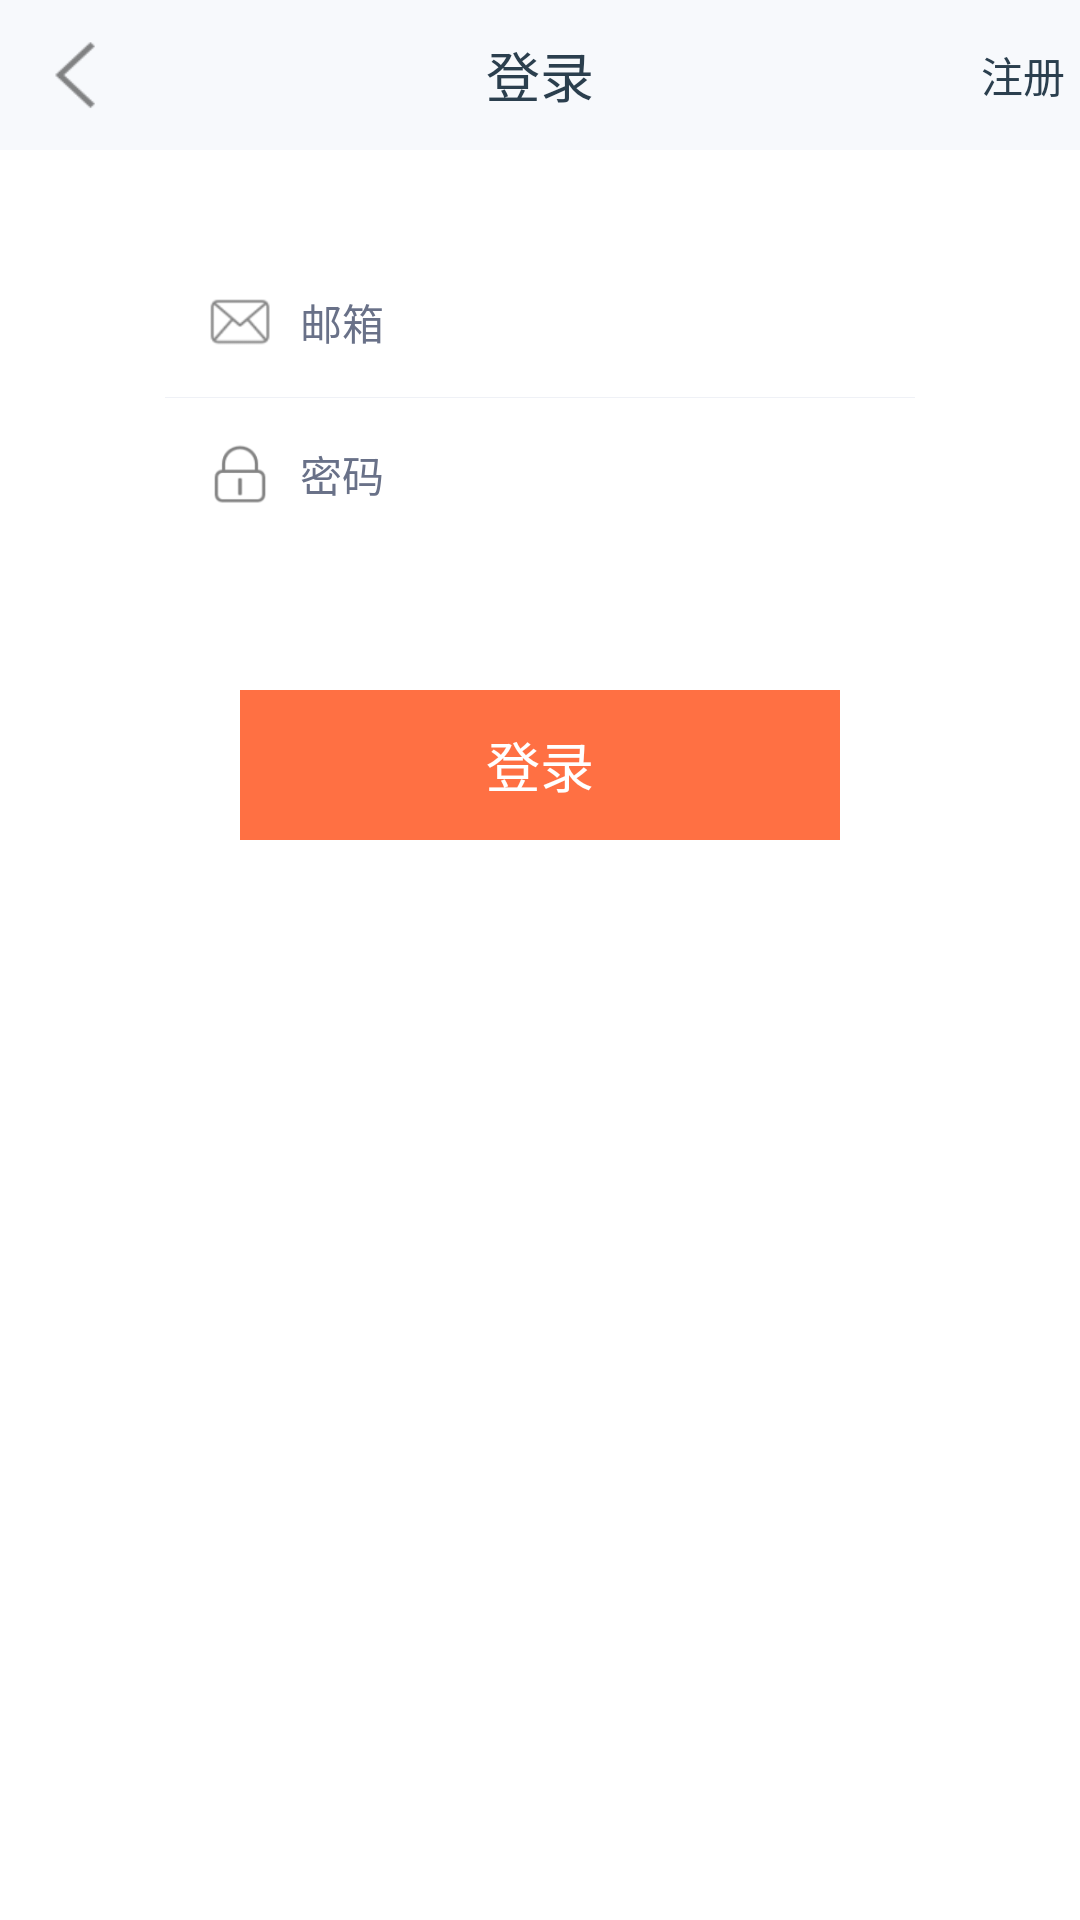

Where icons sit on this 1080 × 1920 app screen, as (x1, y1, x2, y2):
back: (55, 42, 95, 108)
